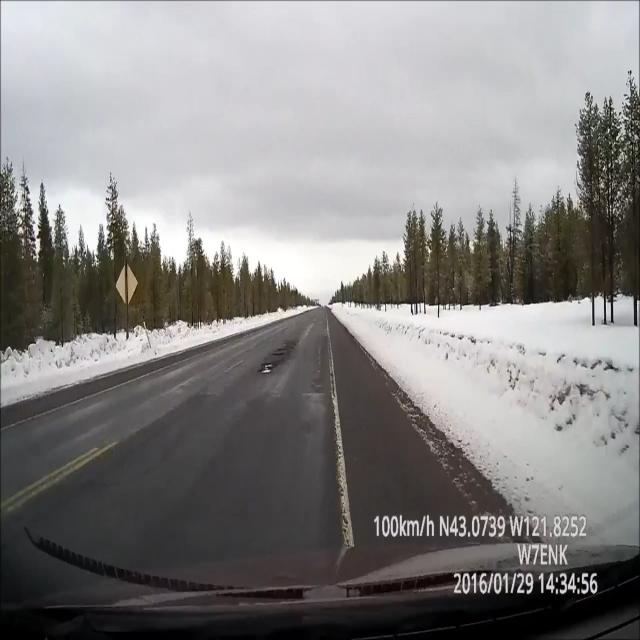Pothole: (254, 334, 296, 382)
